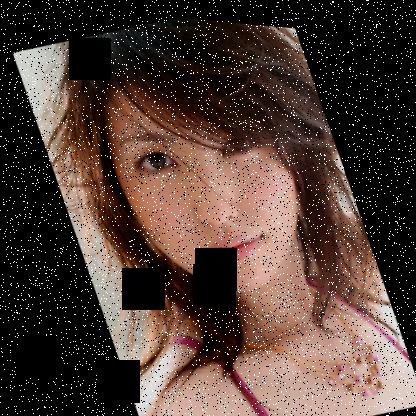Female: (81, 36, 330, 321)
